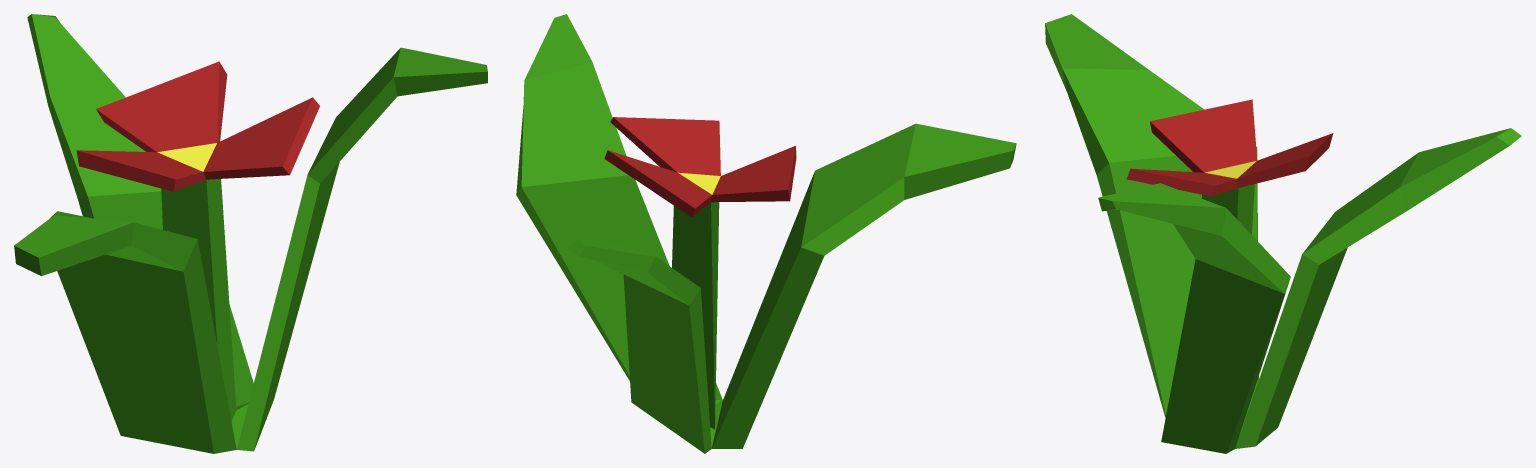
The model's file is Flower2.FBX.
3 renders of one model, left to right at view 1: azimuth 30°, elevation 25°; view 2: azimuth 150°, elevation 25°; view 3: azimuth 270°, elevation 25°, orthographic. The views are drawn at different scales.
Parts seen in each view (by area): view 1: Flower2; view 2: Flower2; view 3: Flower2.
Boxes of the visible parts, box(x1,y1,x2,y2) form: Flower2: box(14, 14, 487, 453); Flower2: box(516, 14, 1016, 453); Flower2: box(1045, 14, 1521, 453).
Size of what is drawn, in the model's own units: 24.94 by 21.91 by 17.65.
